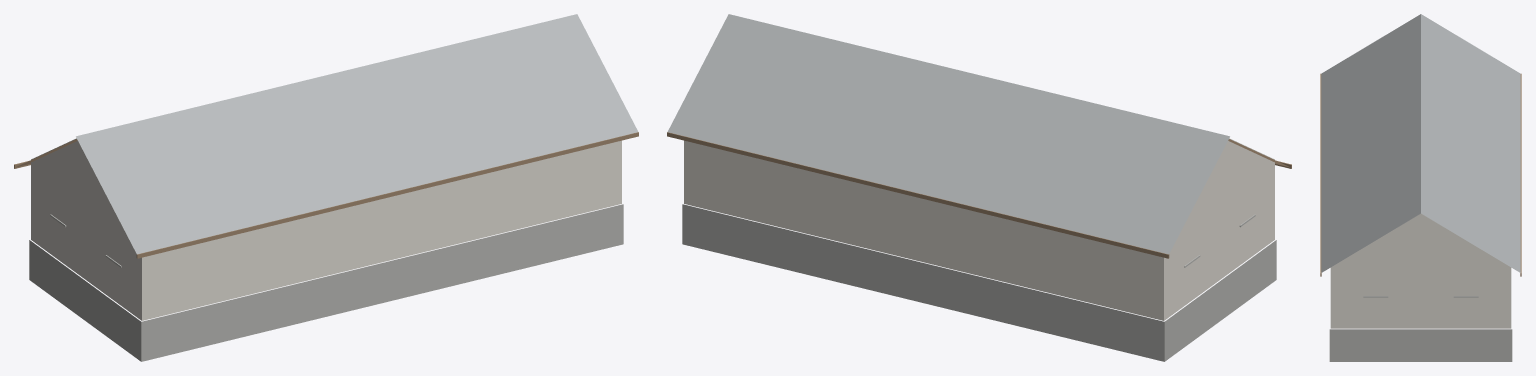
File: barracks.glb
The picture shows the model from 3 angles, left to right: view 1: azimuth 30°, elevation 25°; view 2: azimuth 150°, elevation 25°; view 3: azimuth 270°, elevation 25°; orthographic projection. The views are drawn at different scales.
Visible parts, largest first — view 1: hi, far; view 2: hi, far; view 3: hi, far.
Part boxes in pixels (left/top/right/bottom): hi: left=14, top=14, right=638, bottom=361; far: left=31, top=142, right=621, bottom=320; hi: left=667, top=14, right=1291, bottom=361; far: left=684, top=141, right=1274, bottom=320; hi: left=1320, top=14, right=1521, bottom=361; far: left=1330, top=263, right=1511, bottom=328.
Bounding box in the file's own units: 20.9 × 7.44 × 8.9.
